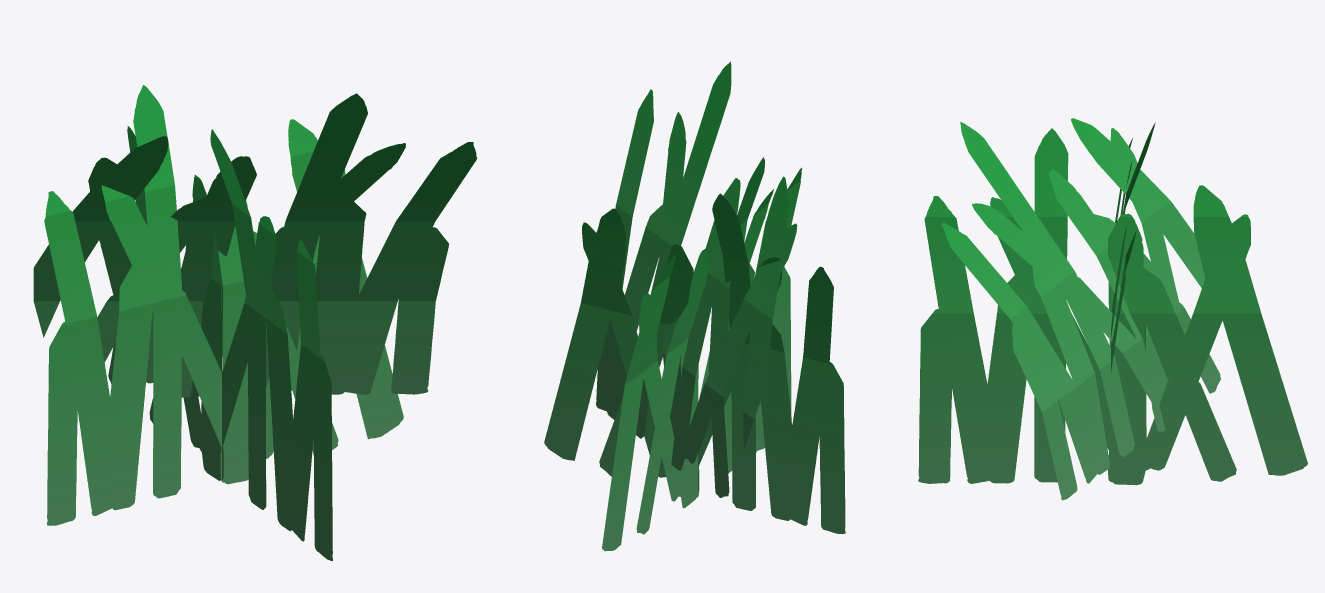
Rendered from grassClumpRedesign1.fbx.
3 renders of one model, left to right at view 1: azimuth 30°, elevation 25°; view 2: azimuth 150°, elevation 25°; view 3: azimuth 270°, elevation 25°, orthographic. The views are drawn at different scales.
Parts seen in each view (by area): view 1: Plane; view 2: Plane; view 3: Plane.
Boxes of the visible parts, x1,y1,x2,y2 form: Plane: (33,85,476,560); Plane: (544,61,845,551); Plane: (918,118,1307,500).
Size of the model in its own units: 31.38 by 32.99 by 31.
